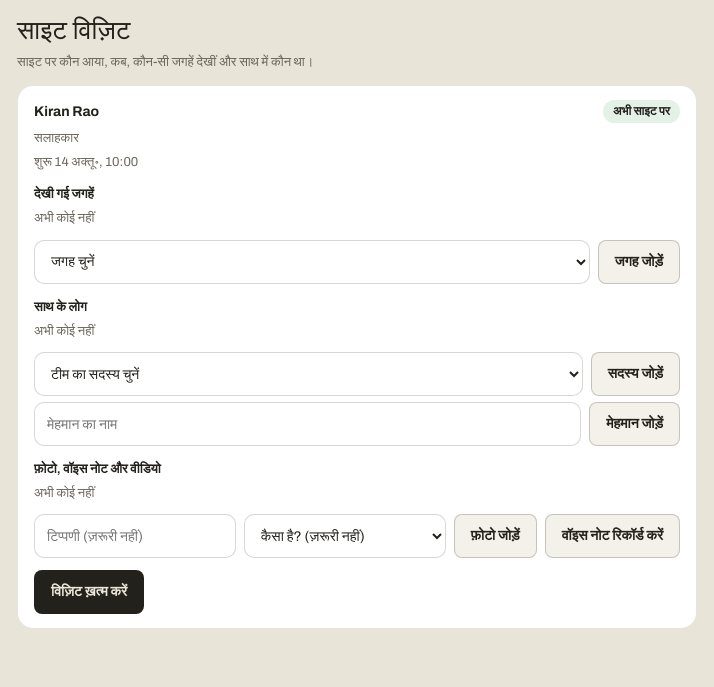
Test: Stage 1 voice notes on a visit › gives a server’s refusal of a voice note in the person’s language
Click the button "वॉइस नोट रिकॉर्ड करें".
click(612, 536)  # box [545,514,680,558]
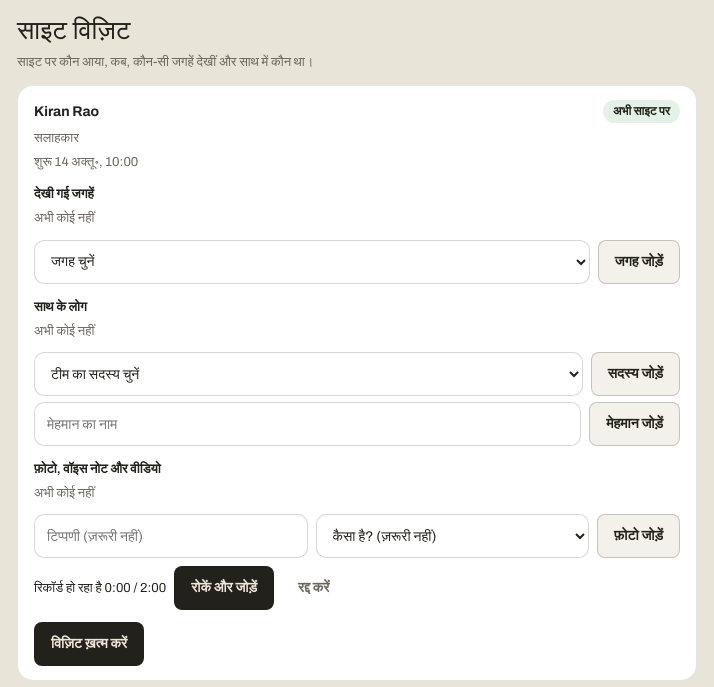
Click the button "रोकें और जोड़ें".
click(224, 588)  # box [174,566,274,610]
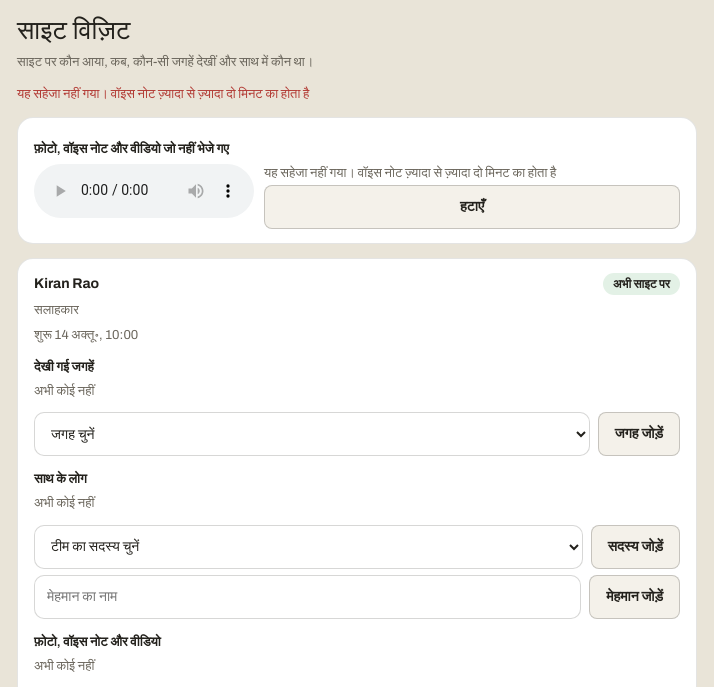
Now the element with test id "sv-not-sent" shows "वॉइस नोट ज़्यादा से ज़्यादा दो मिनट का होता है", box [264,166,556,180]
Now the message shows "वॉइस नोट ज़्यादा से ज़्यादा दो मिनट का होता है", box [17,87,309,101]
